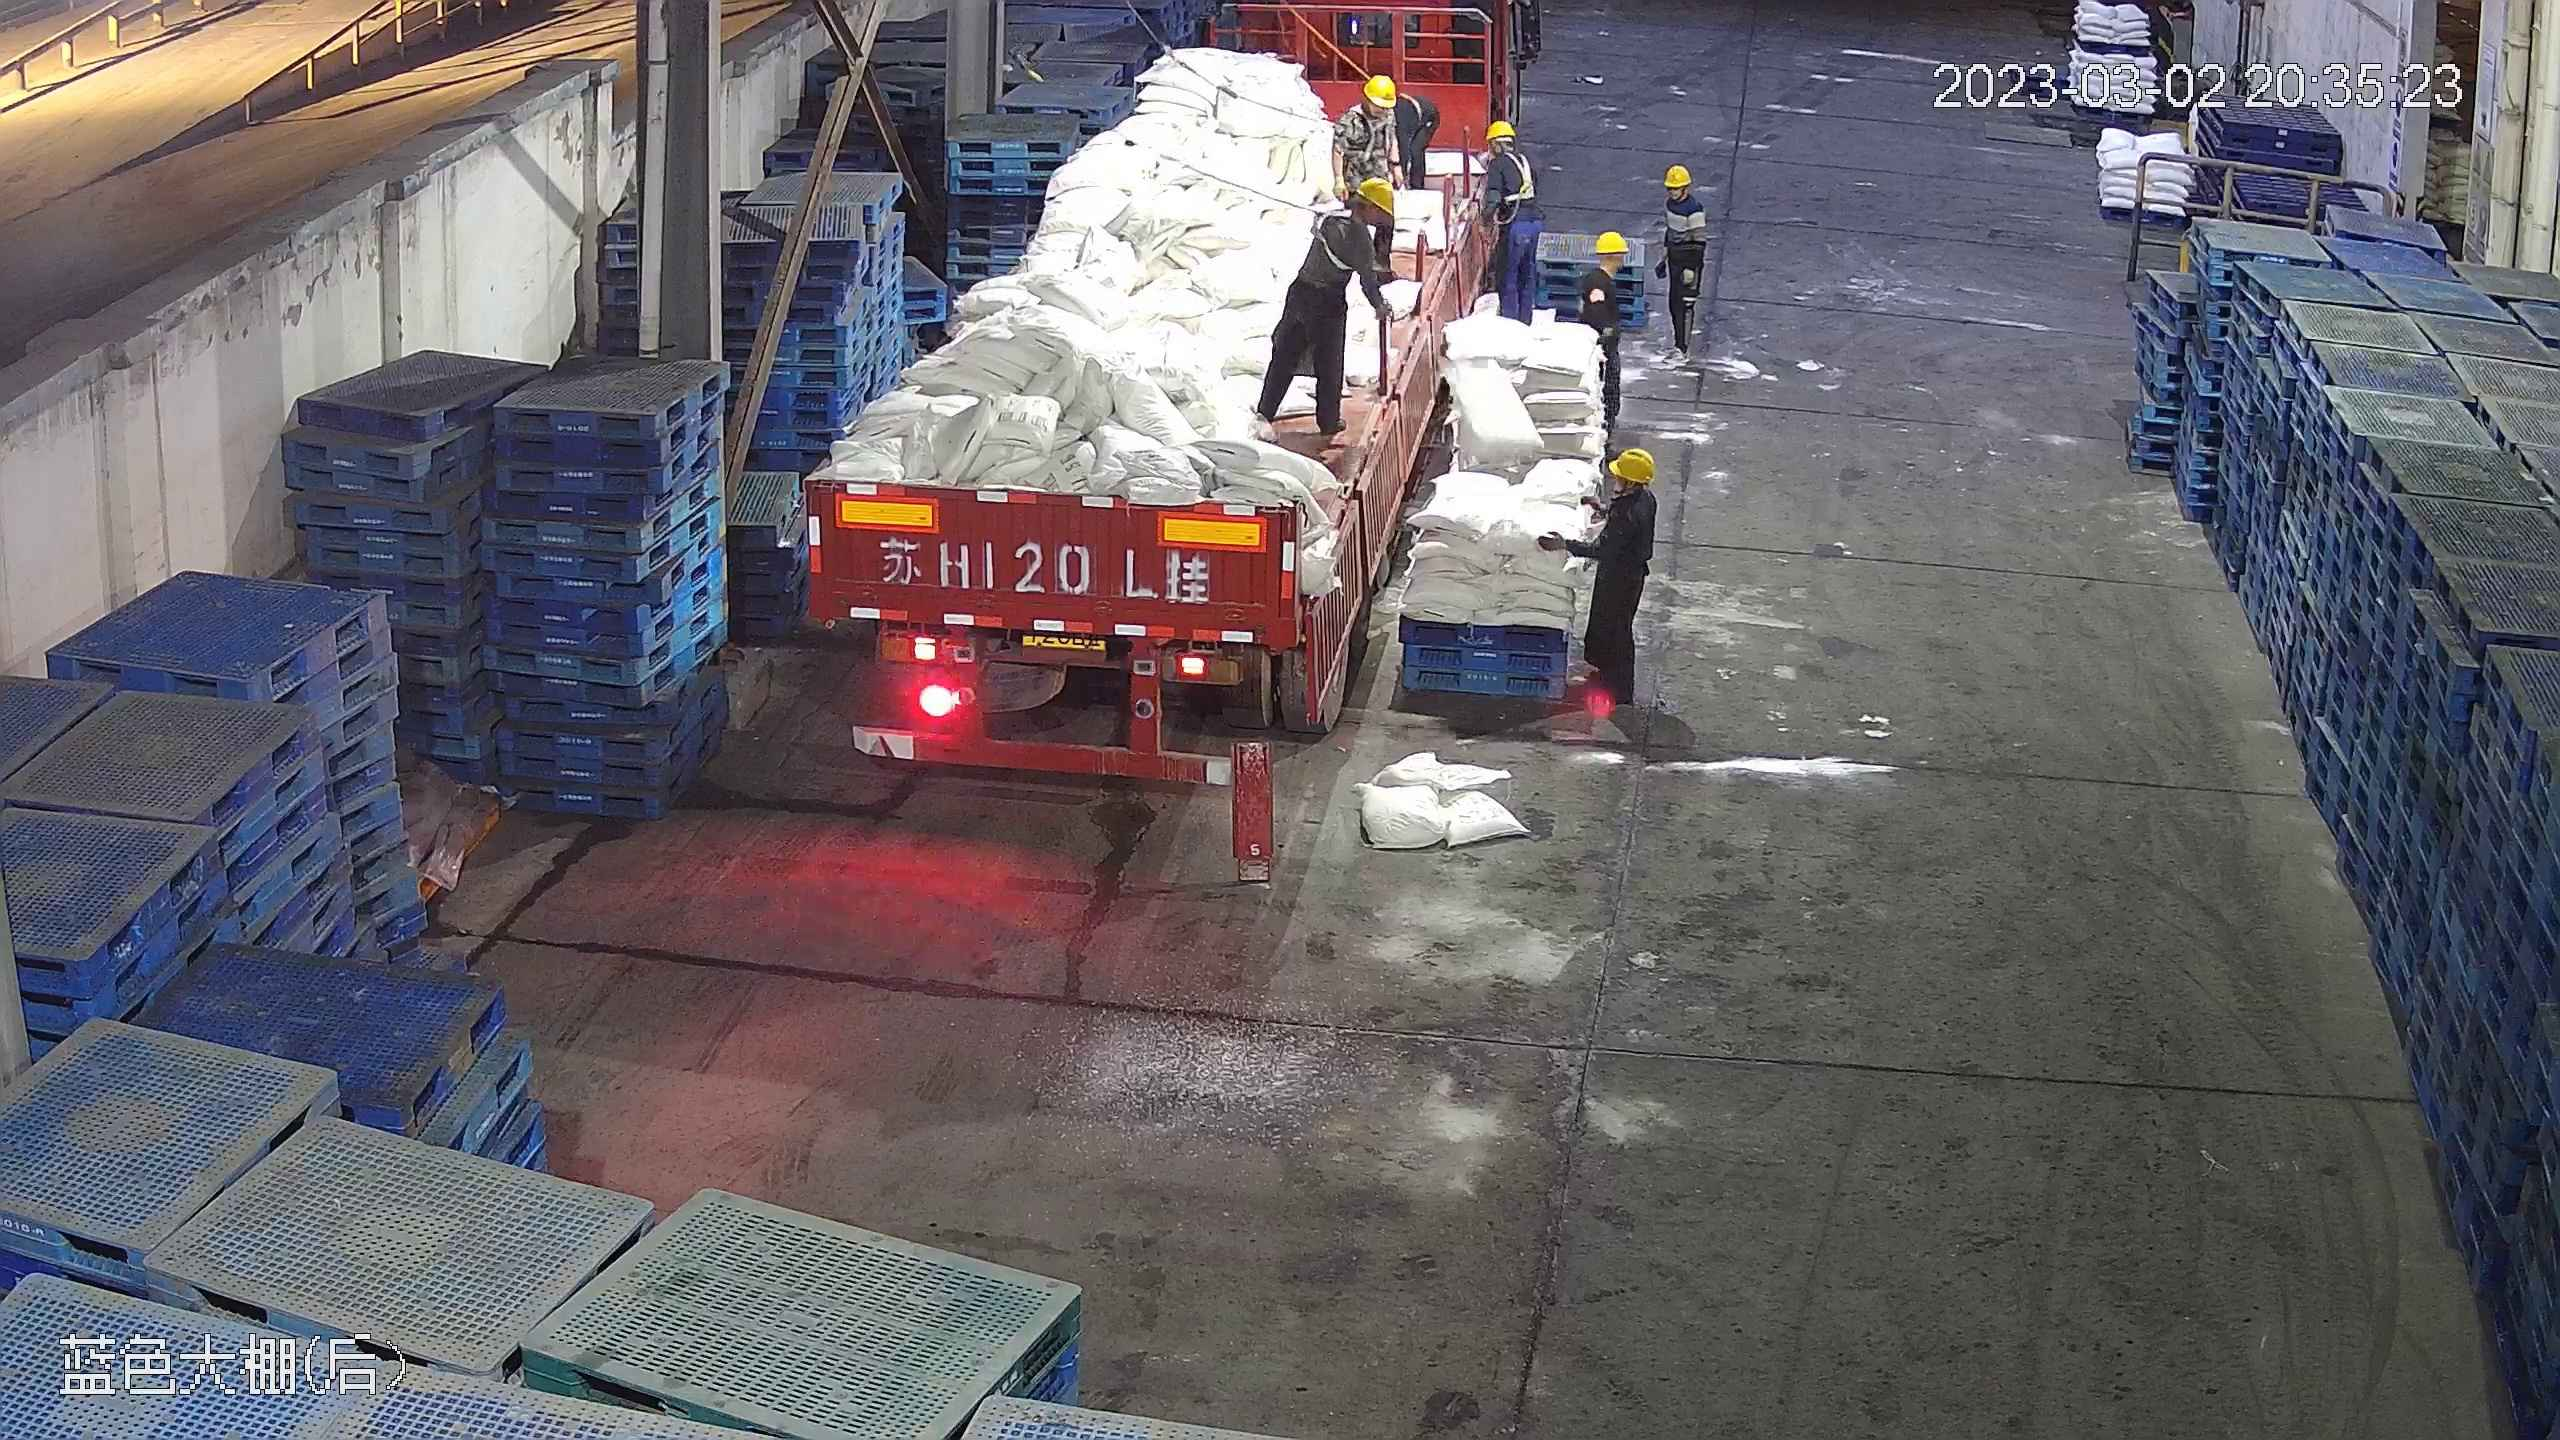belt: (1300, 203, 1363, 272), (1346, 106, 1397, 170), (1488, 153, 1535, 202), (1392, 88, 1427, 125)
head: (1310, 180, 1402, 259), (1584, 442, 1657, 536), (1338, 71, 1412, 129), (1475, 119, 1537, 185), (1583, 229, 1635, 298), (1656, 163, 1710, 223)
helmet: (1602, 443, 1657, 484), (1352, 176, 1398, 217), (1362, 71, 1396, 106), (1593, 228, 1630, 256), (1482, 116, 1518, 141), (1662, 162, 1692, 187)
people: (1251, 176, 1399, 441), (1546, 438, 1654, 718), (1471, 117, 1545, 325), (1654, 158, 1717, 365), (1576, 231, 1636, 443)
truck: (789, 11, 1468, 776)
